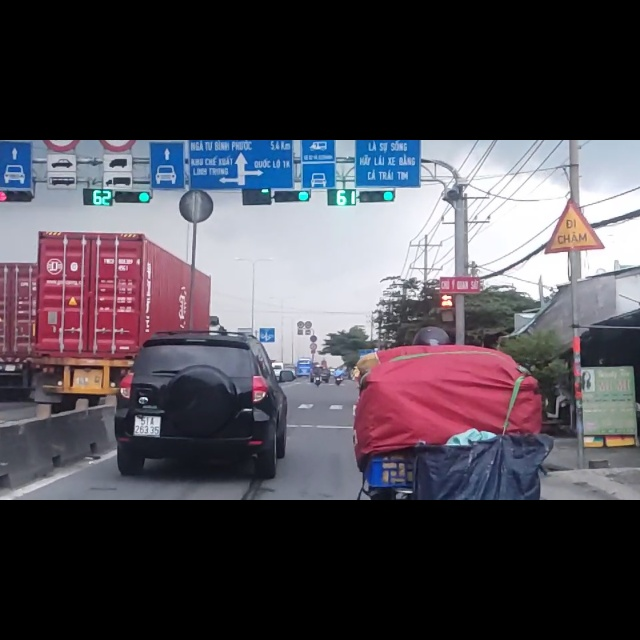bien_cam: (543, 102, 605, 203)
